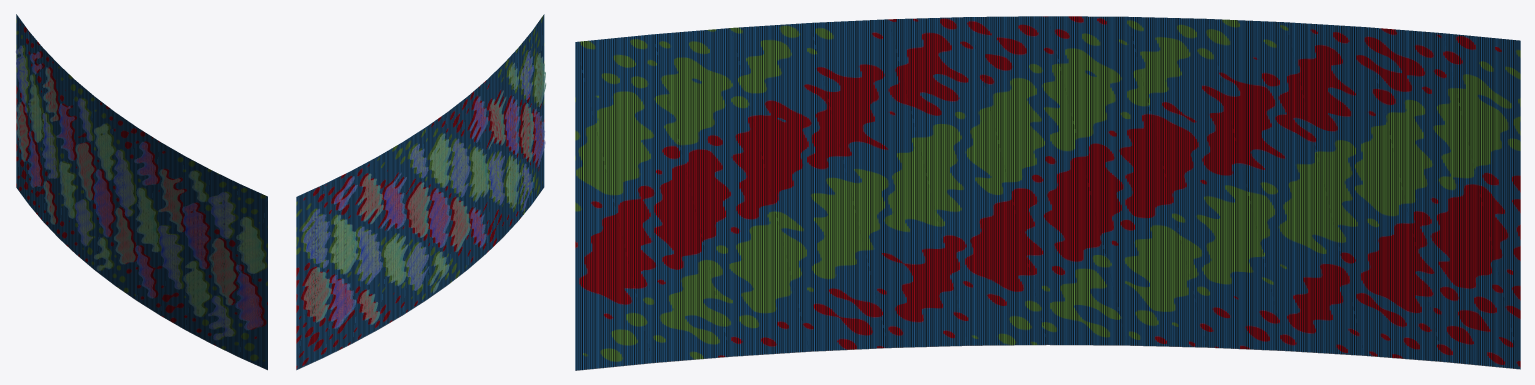
The picture shows the model from 3 angles, left to right: view 1: azimuth 30°, elevation 25°; view 2: azimuth 150°, elevation 25°; view 3: azimuth 270°, elevation 25°; orthographic projection. The views are drawn at different scales.
Visible parts, largest first — view 1: curved wall 7 20 26, curved wall 7 20 26.001; view 2: curved wall 7 20 26, curved wall 7 20 26.001; view 3: curved wall 7 20 26.
Part boxes in pixels (x1,y1,x2,y2): curved wall 7 20 26: [16, 14, 267, 370]; curved wall 7 20 26.001: [16, 46, 264, 339]; curved wall 7 20 26: [296, 14, 544, 370]; curved wall 7 20 26.001: [302, 50, 546, 328]; curved wall 7 20 26: [575, 16, 1520, 370].
Bounding box in the file's own units: 1.02 × 5.6 × 14.58.
2 materials, 2 textured.
